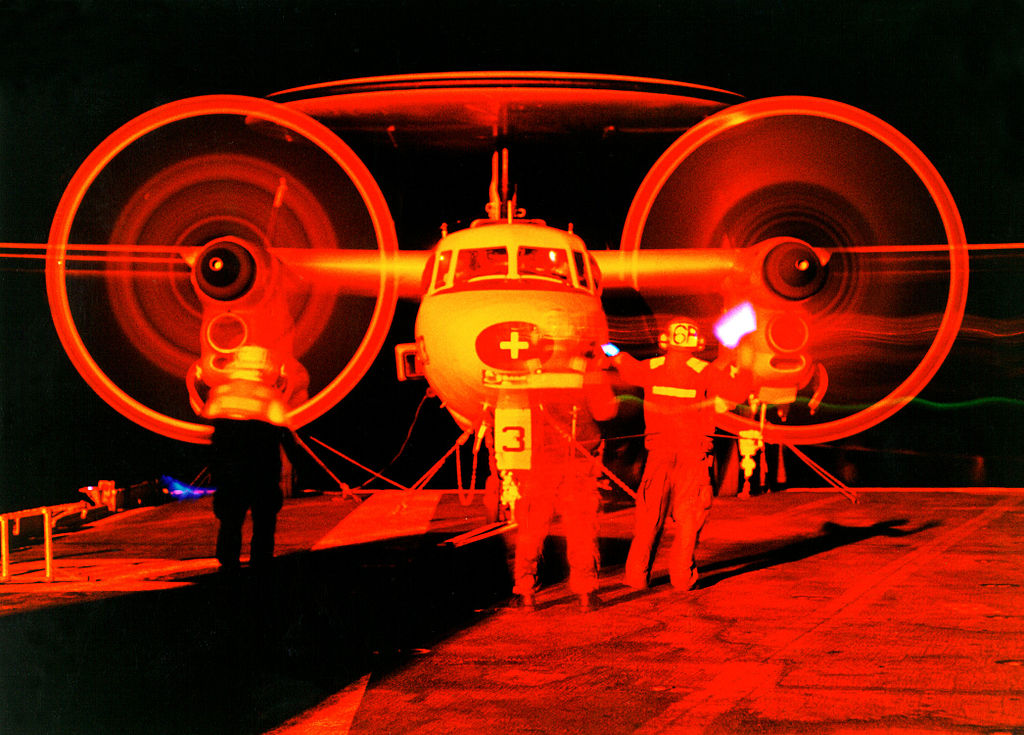E2: (1, 69, 1024, 522)
